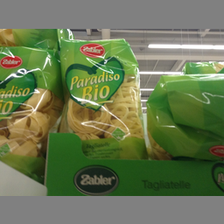pasta: (59, 37, 150, 158), (1, 45, 58, 179), (147, 72, 224, 159)
